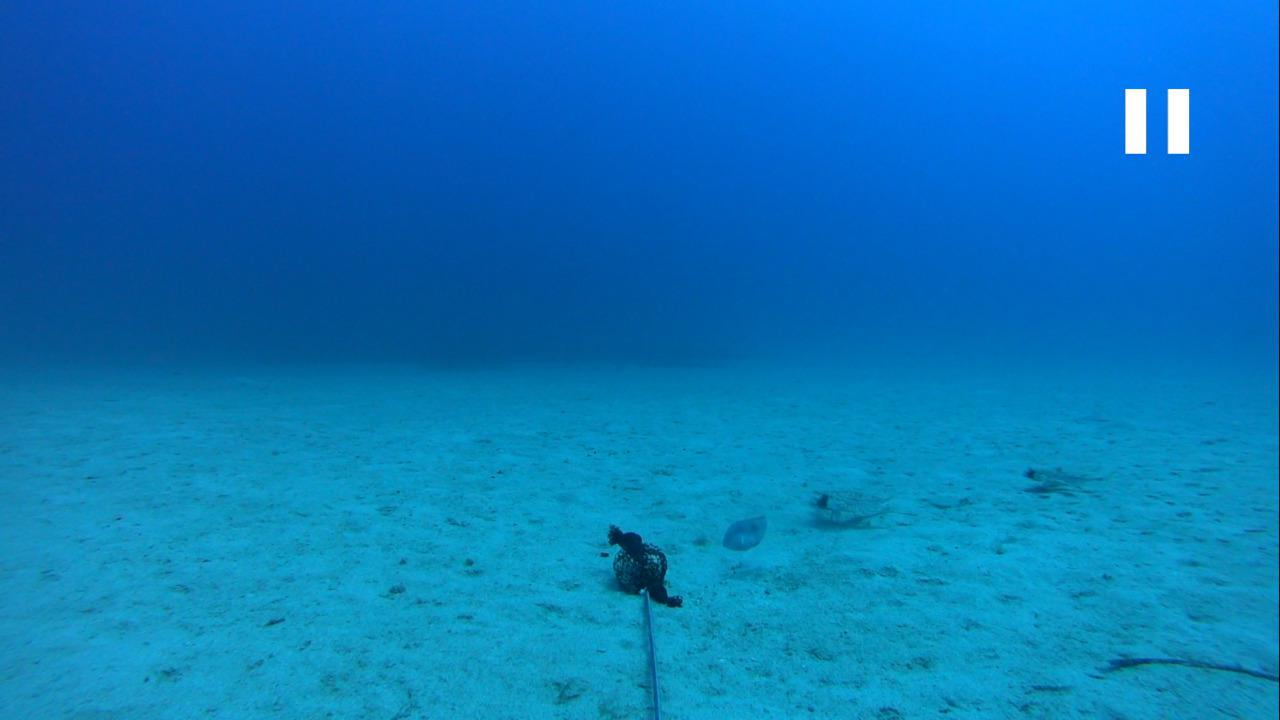bothus: (911, 490, 984, 510)
dactylopterus: (799, 484, 908, 526), (1009, 460, 1092, 504)
raor: (711, 512, 770, 551)
